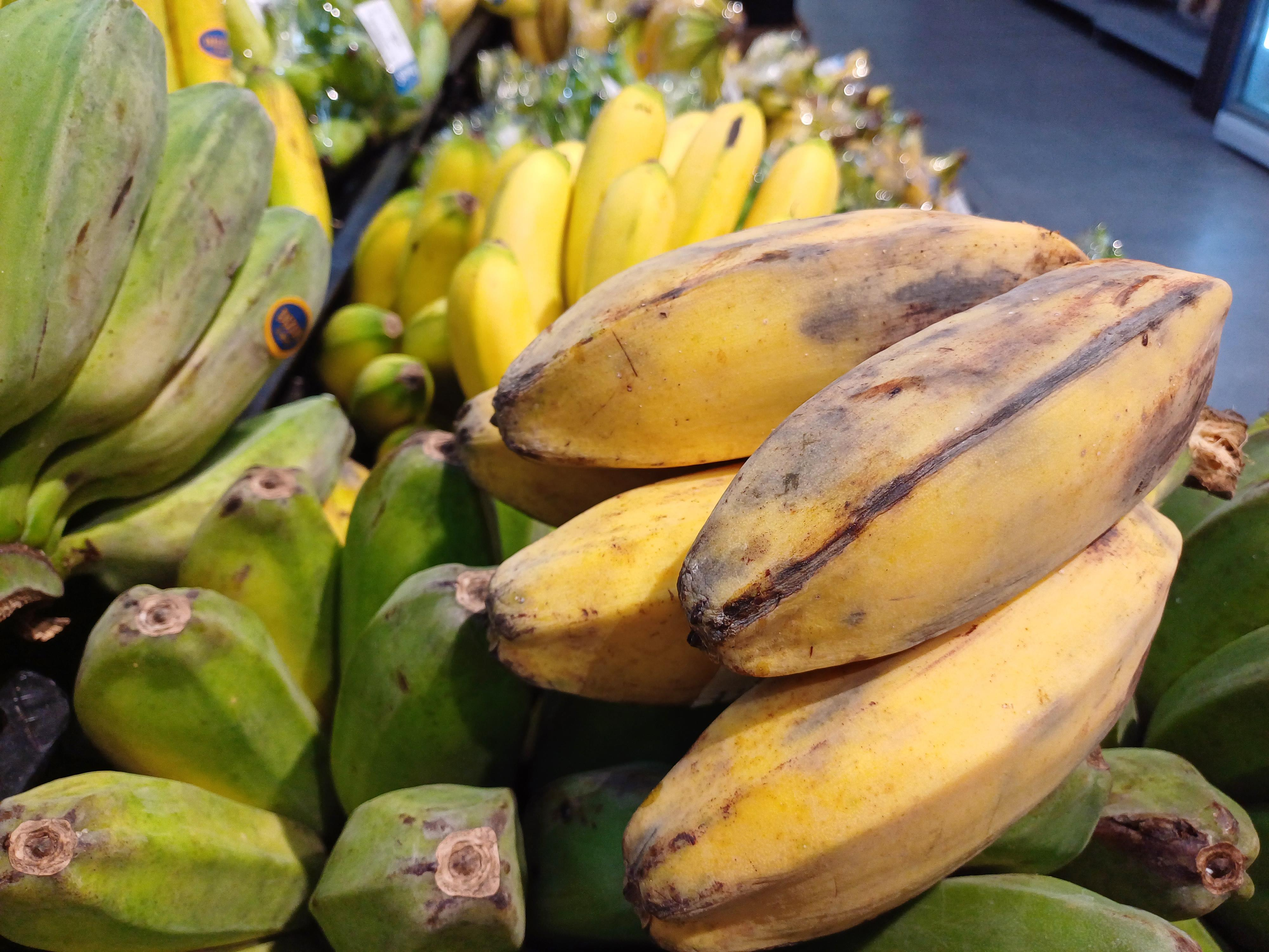ripe: (457, 209, 1231, 949)
underripe: (0, 433, 664, 952), (0, 0, 353, 591)
